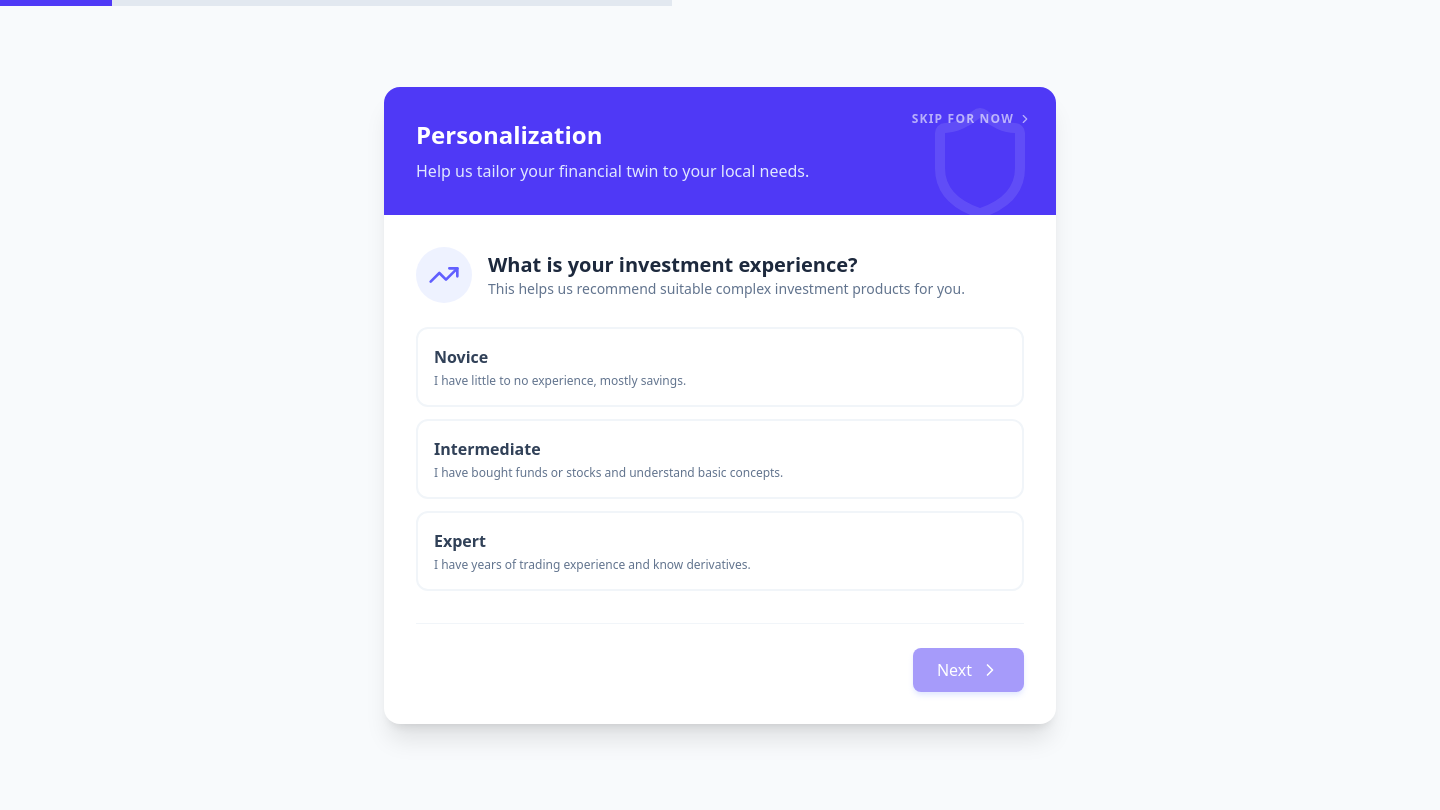
Scenario: OnboardingQuiz › allows navigation back to previous question
This screenshot has width=1440, height=810.
Go forward one step
Click the text "Novice".
click(461, 356)  # box [434, 346, 488, 368]
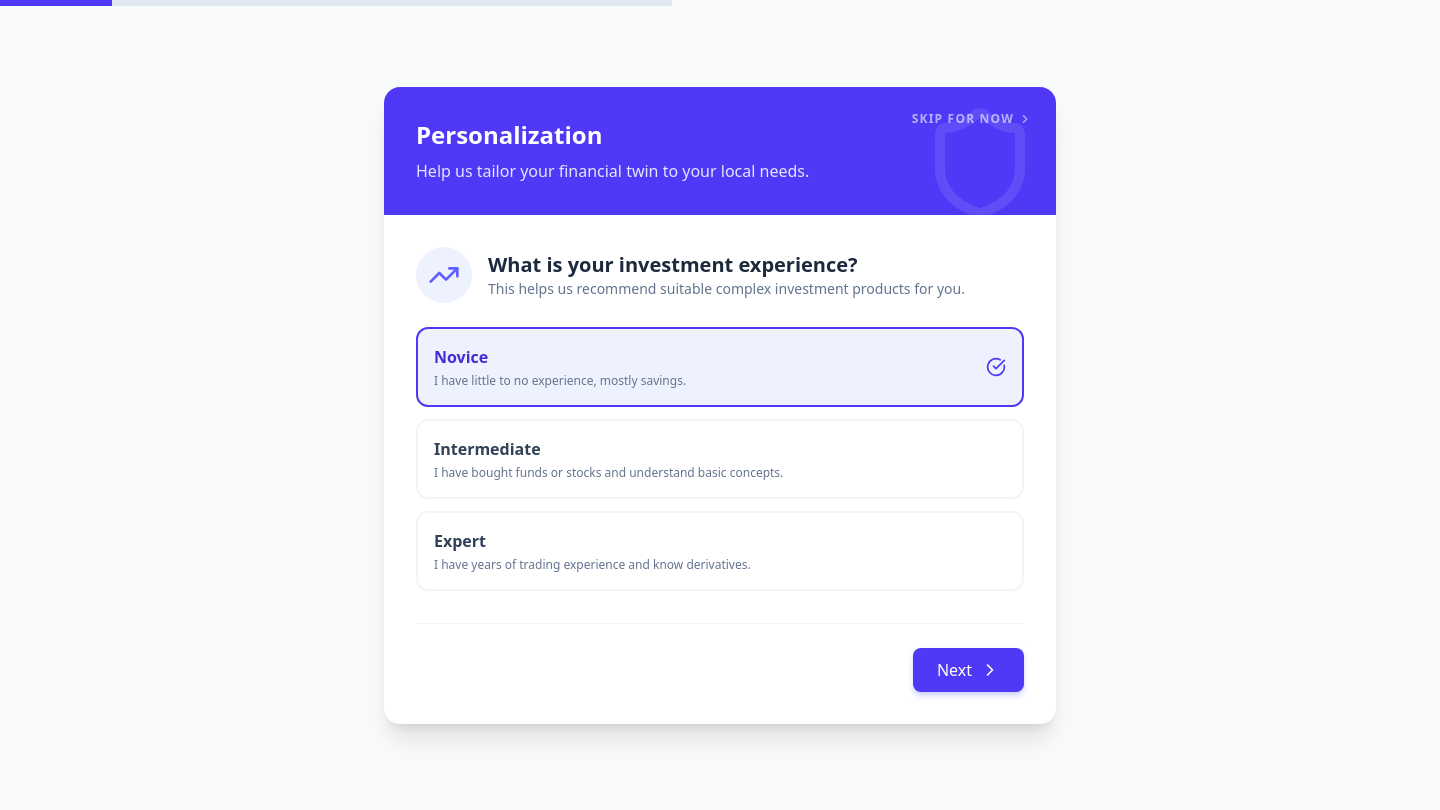
Click the button "Next".
click(968, 670)  # box [913, 648, 1024, 692]
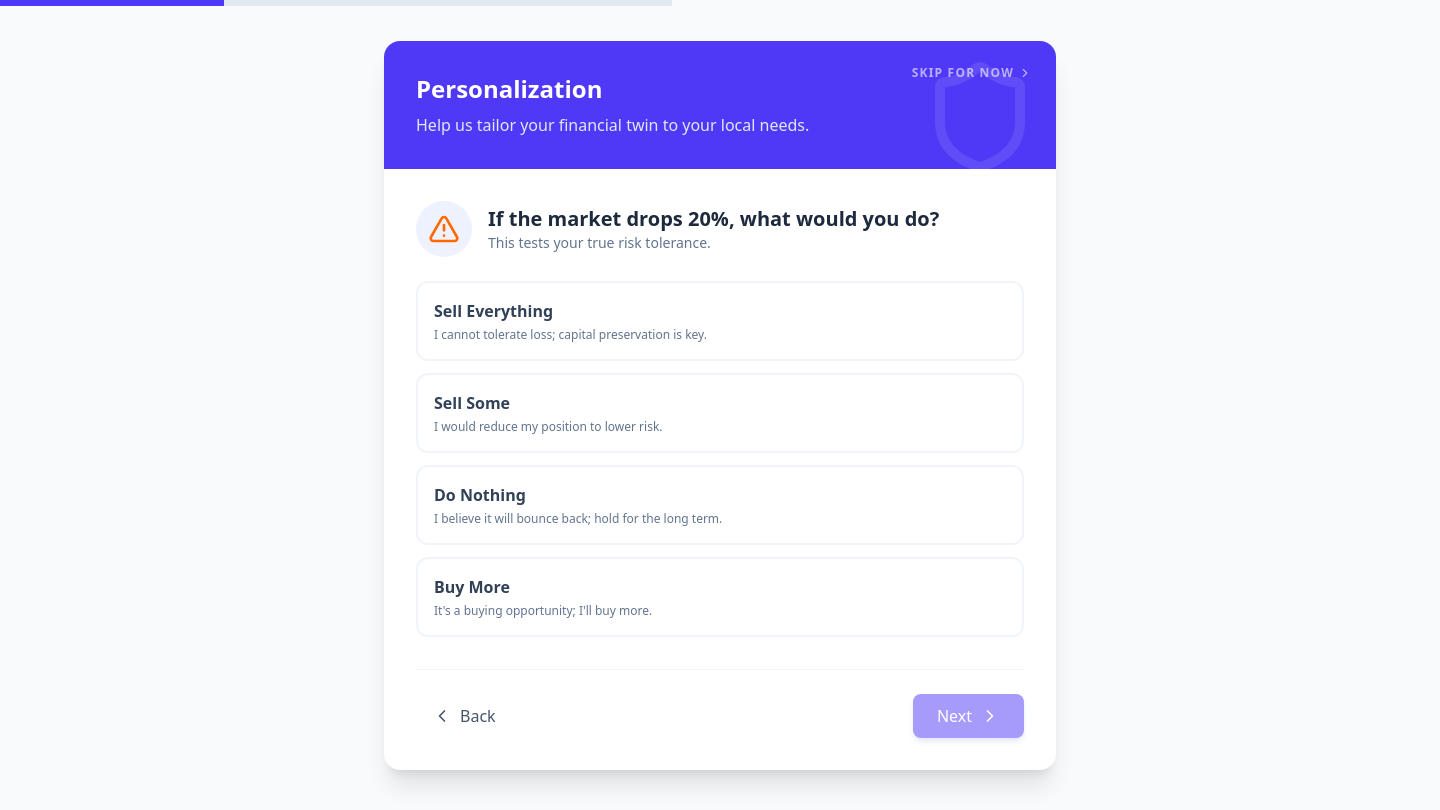
Check: the heading "If the market drops 20%, what would you do?" is shown, box [488, 204, 939, 232]
Click Back
Click the button "Back".
click(464, 716)  # box [416, 696, 512, 736]
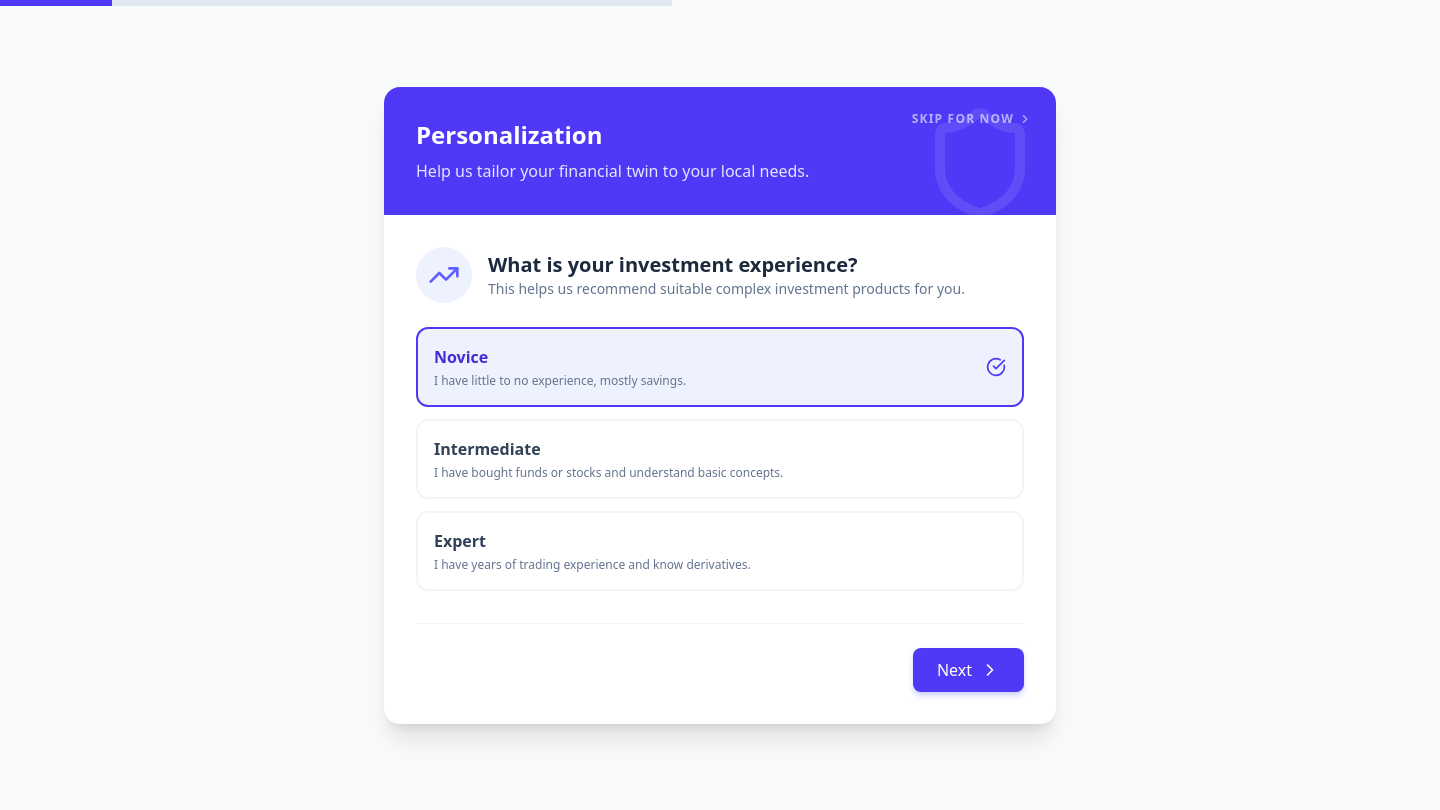
Check: the heading "What is your investment experience?" is shown, box [488, 250, 858, 278]
